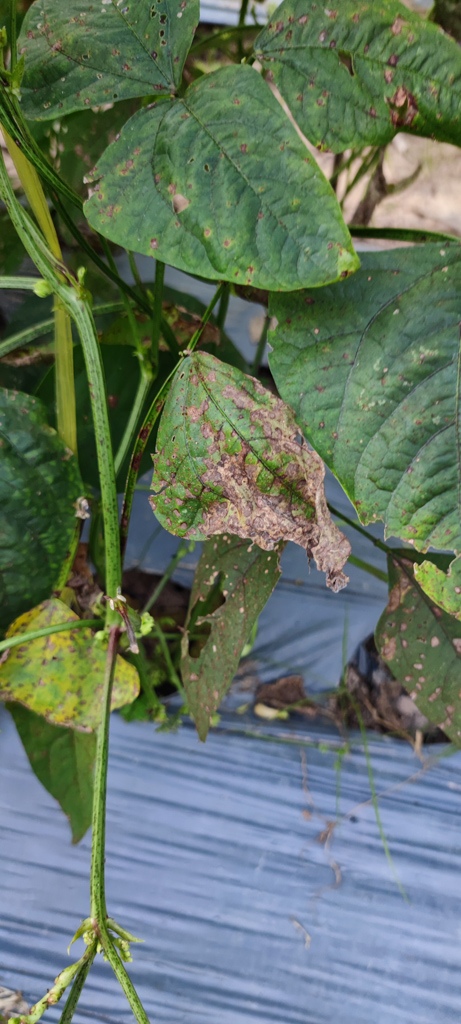Rust: (90, 87, 353, 304), (265, 272, 451, 549), (151, 349, 345, 596), (265, 8, 445, 153), (2, 589, 145, 748), (15, 6, 203, 108), (179, 543, 280, 732), (371, 559, 460, 748)
